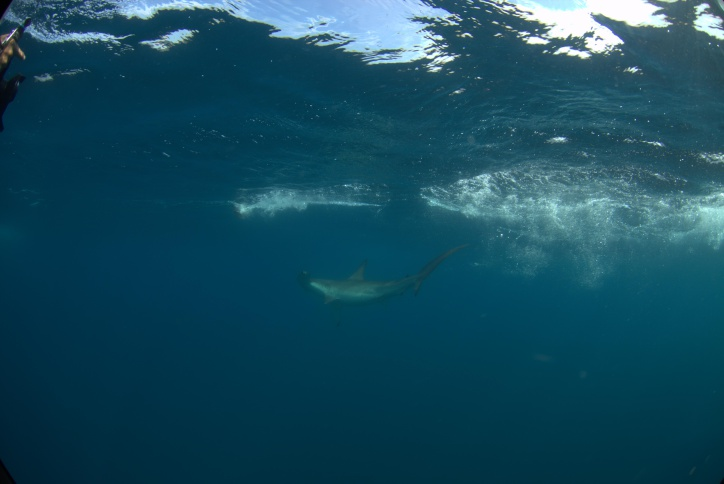Hammer: (281, 237, 465, 333)
